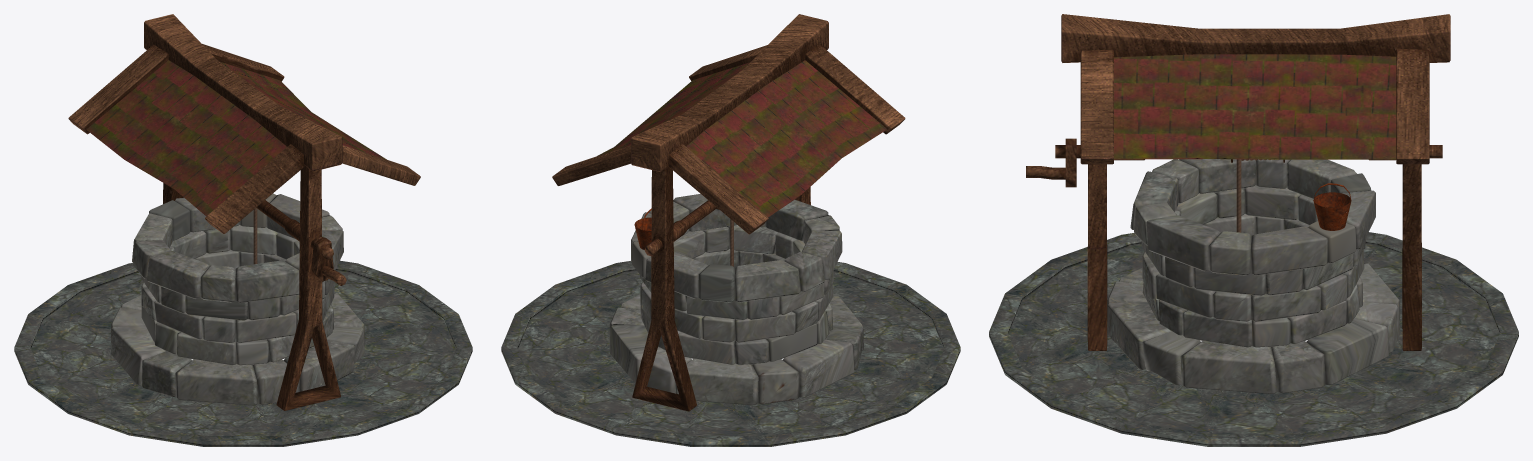
Rendered from WaterWell.FBX.
3 renders of one model, left to right at view 1: azimuth 30°, elevation 25°; view 2: azimuth 150°, elevation 25°; view 3: azimuth 270°, elevation 25°, orthographic. The views are drawn at different scales.
Parts seen in each view (by area): view 1: Pozo_1; view 2: Pozo_1; view 3: Pozo_1.
Boxes of the visible parts, x1,y1,x2,y2 form: Pozo_1: [14, 14, 472, 446]; Pozo_1: [501, 14, 960, 446]; Pozo_1: [989, 14, 1518, 446].
Bounding box in the file's own units: 45.18 × 30.21 × 45.88.
